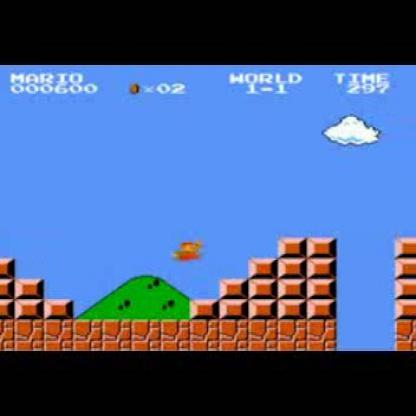Hoyo: (333, 321, 398, 351)
